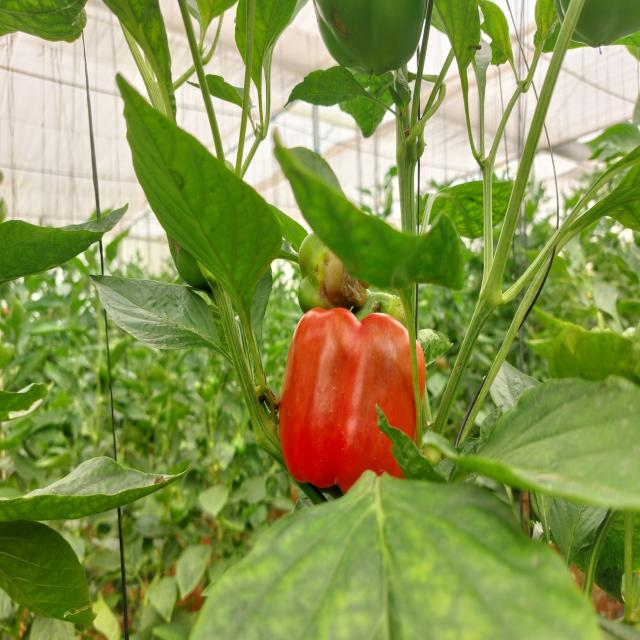Red-Ready-to-Harvest: (280, 310, 426, 499)
